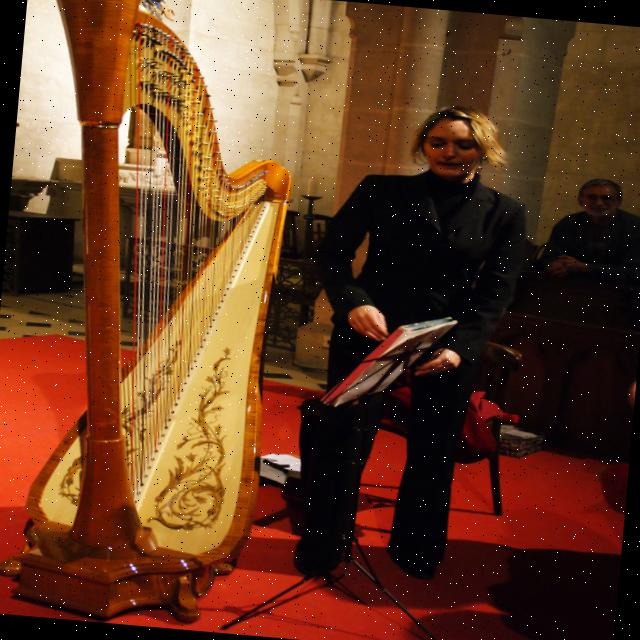harp: (0, 0, 314, 633)
